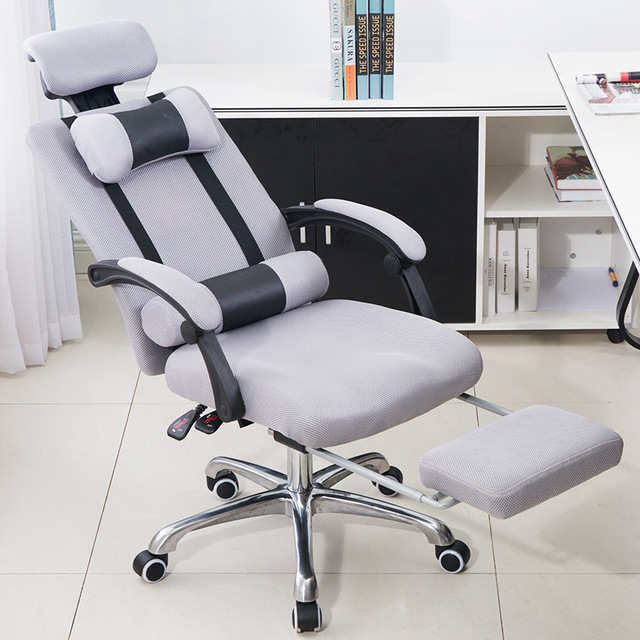chairs: (18, 23, 625, 633)
